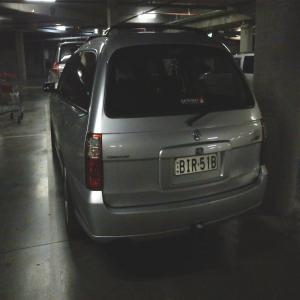Vehicle-registration-plate: (168, 148, 227, 189)
